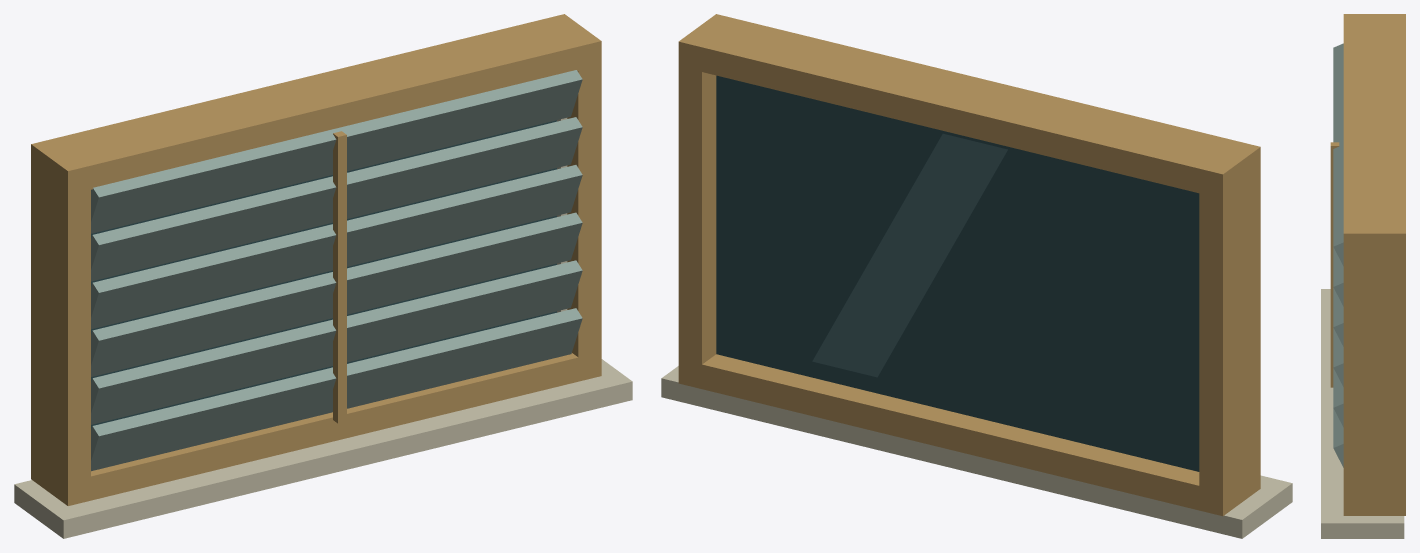
Rendered from Window_Privacy_150x090.fbx.
3 views of the same model, side by side, from view 1: azimuth 30°, elevation 25°; view 2: azimuth 150°, elevation 25°; view 3: azimuth 270°, elevation 25° (orthographic). The views are drawn at different scales.
Parts seen in each view (by area): view 1: M_Window_PrivacySlats, AgedBrass, M_Central_Limestone, M_Window_OpaqueGlass; view 2: M_Window_OpaqueGlass, AgedBrass, M_Window_GlassSheen, M_Central_Limestone; view 3: AgedBrass, M_Central_Limestone, M_Window_PrivacySlats.
Part boxes in pixels (x1=…): M_Window_PrivacySlats: x1=91, y1=70, x2=582, y2=471; AgedBrass: x1=31, y1=14, x2=601, y2=505; M_Central_Limestone: x1=14, y1=118, x2=632, y2=538; M_Window_OpaqueGlass: x1=91, y1=120, x2=556, y2=429; M_Window_OpaqueGlass: x1=716, y1=75, x2=1199, y2=471; AgedBrass: x1=678, y1=14, x2=1260, y2=516; M_Window_GlassSheen: x1=812, y1=133, x2=1007, y2=377; M_Central_Limestone: x1=661, y1=366, x2=1292, y2=538; AgedBrass: x1=1330, y1=14, x2=1405, y2=515; M_Central_Limestone: x1=1321, y1=289, x2=1404, y2=538; M_Window_PrivacySlats: x1=1333, y1=43, x2=1343, y2=467.
Size of the model in its own units: 160 by 95 by 24.5.
